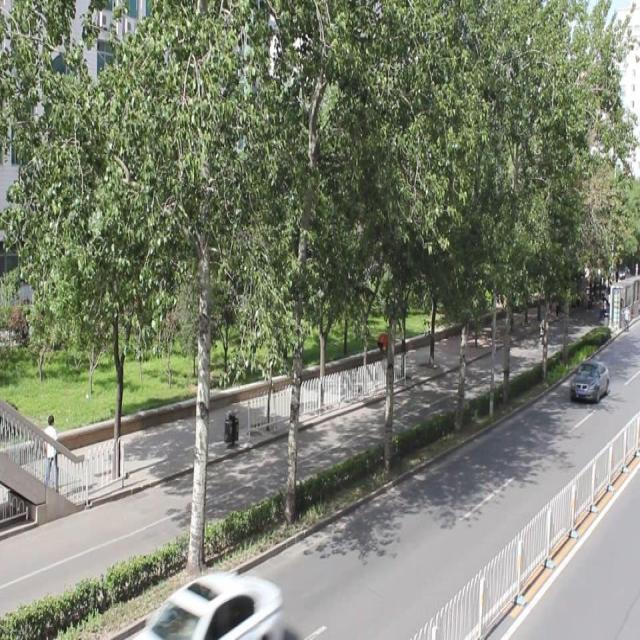car: (138, 570, 280, 640), (569, 358, 607, 404)
